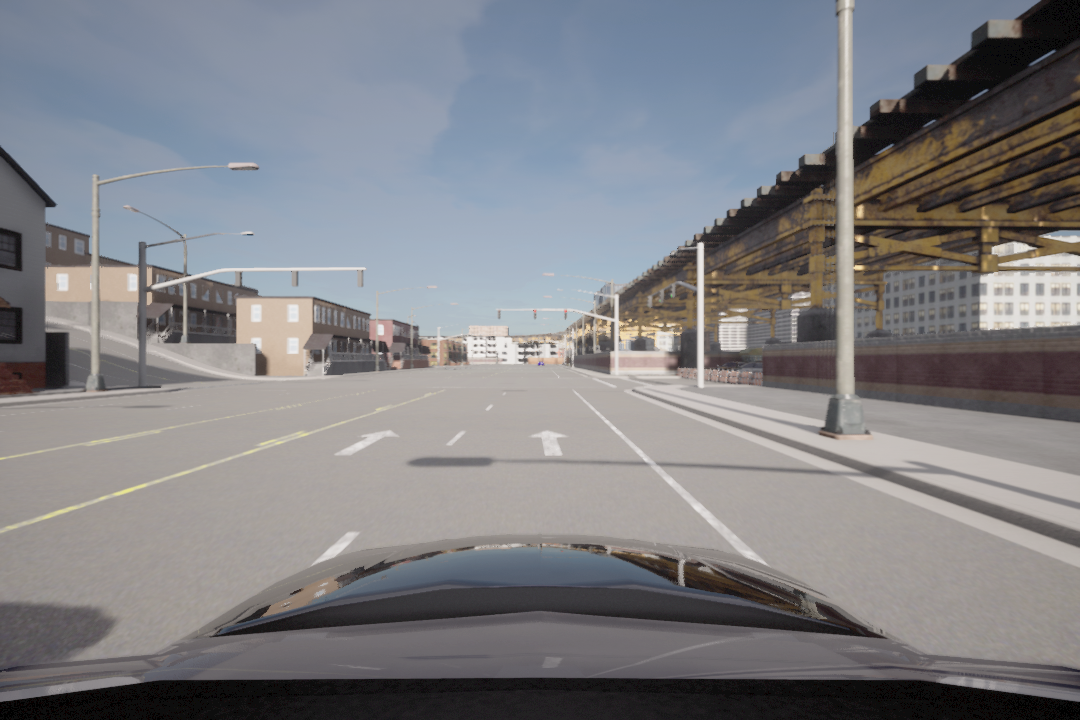RoadSign_forward: (337, 424, 399, 460), (524, 430, 571, 465)
